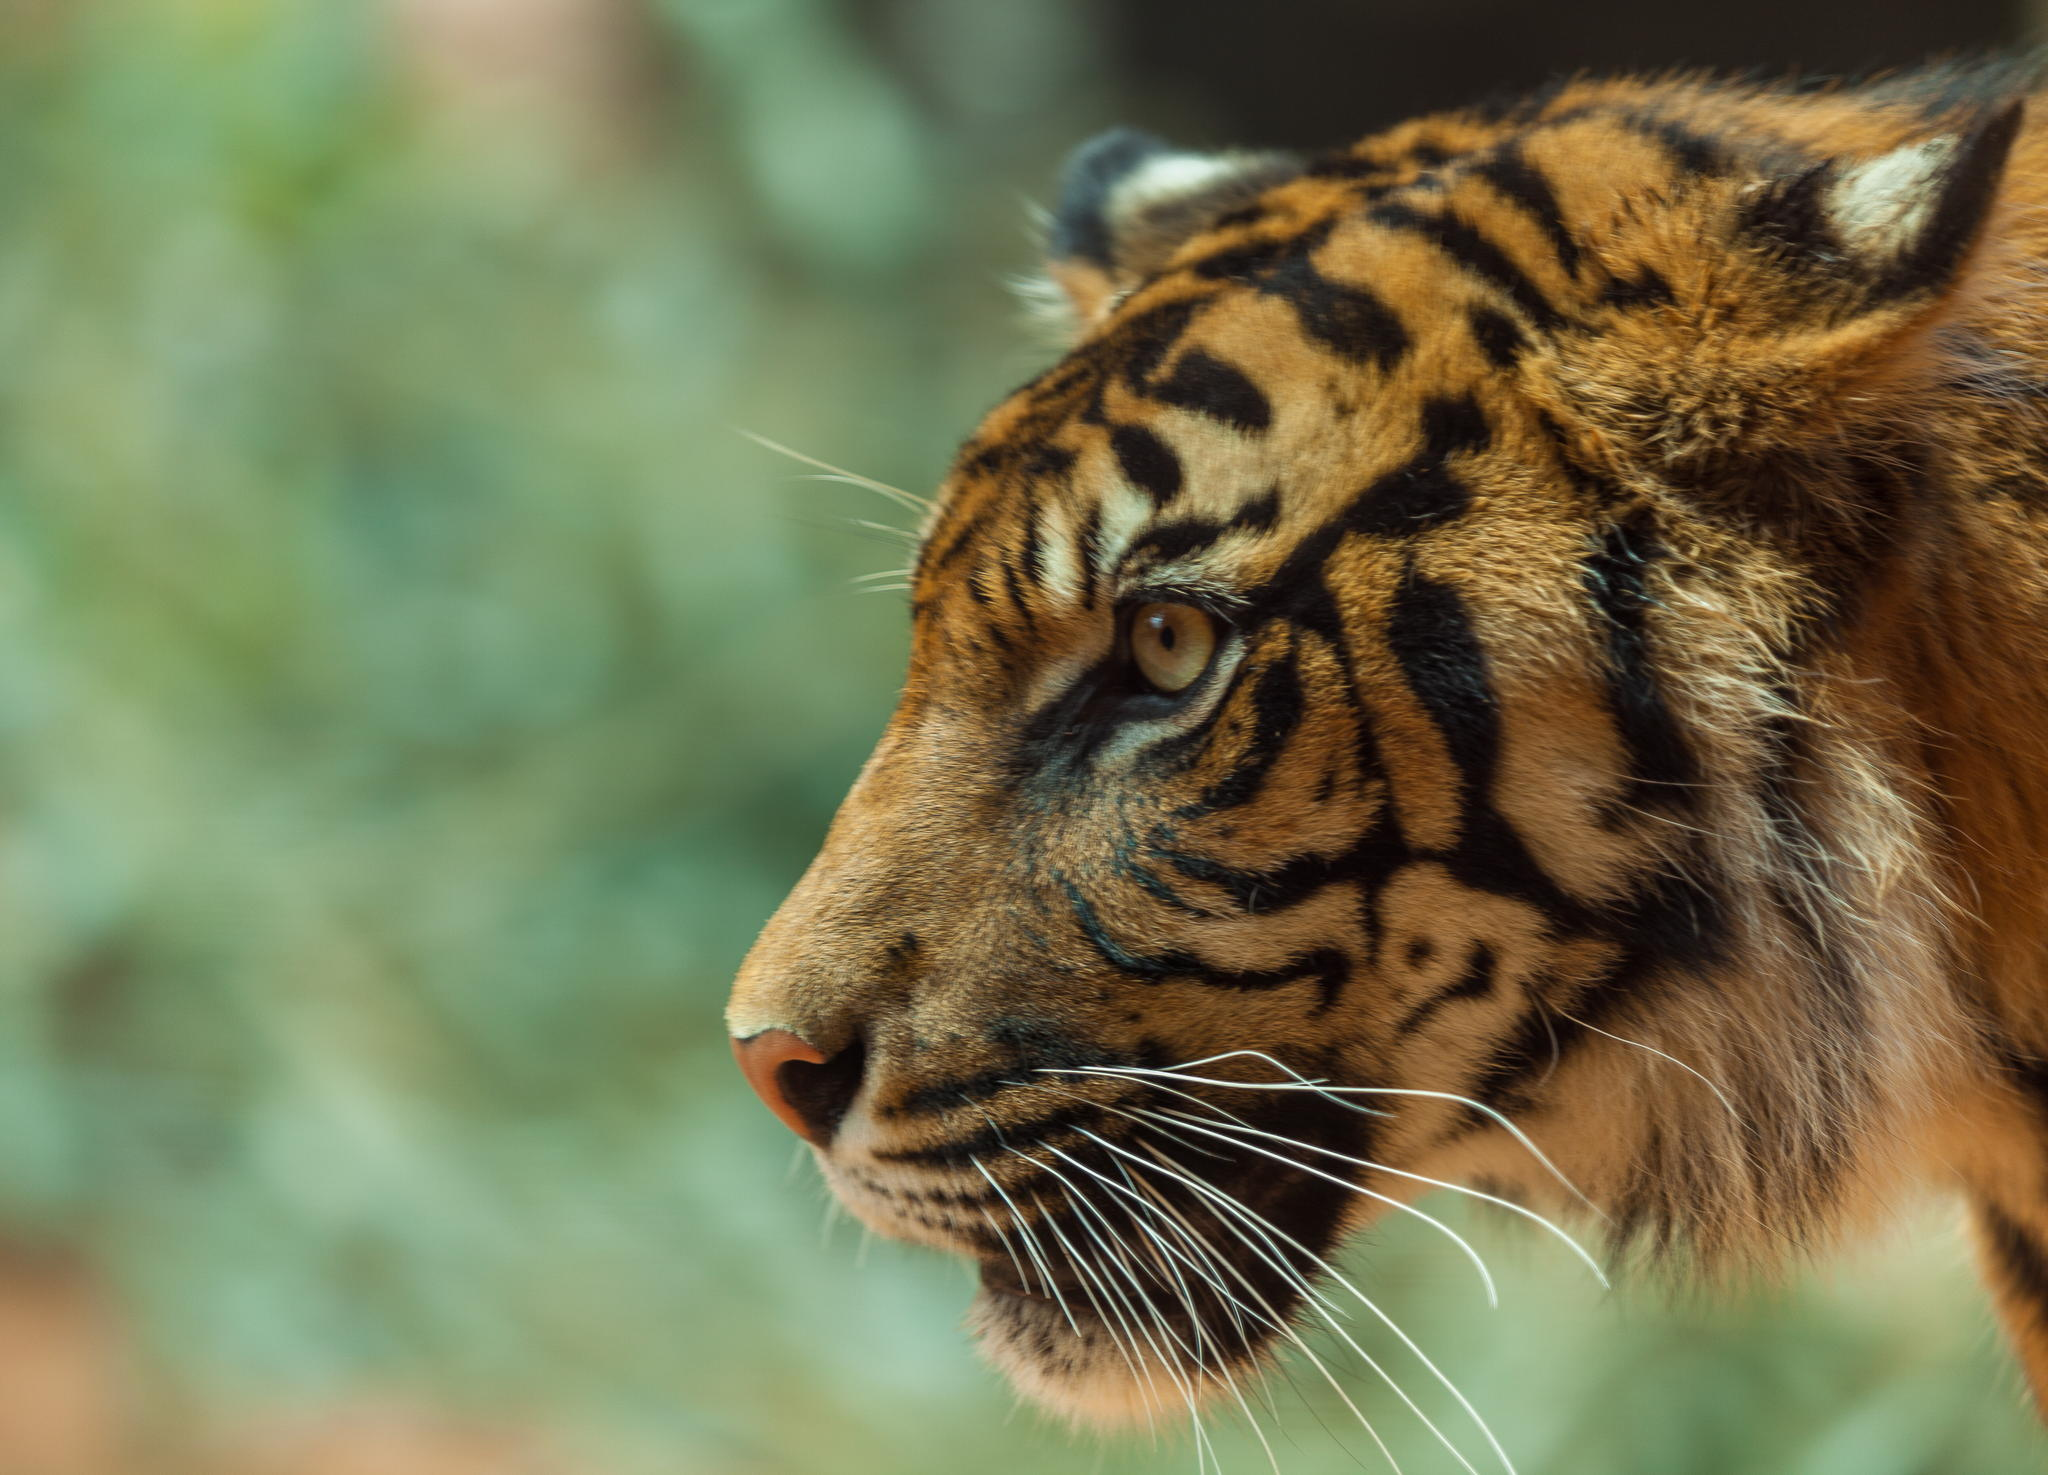tiger: (773, 62, 2010, 1454)
